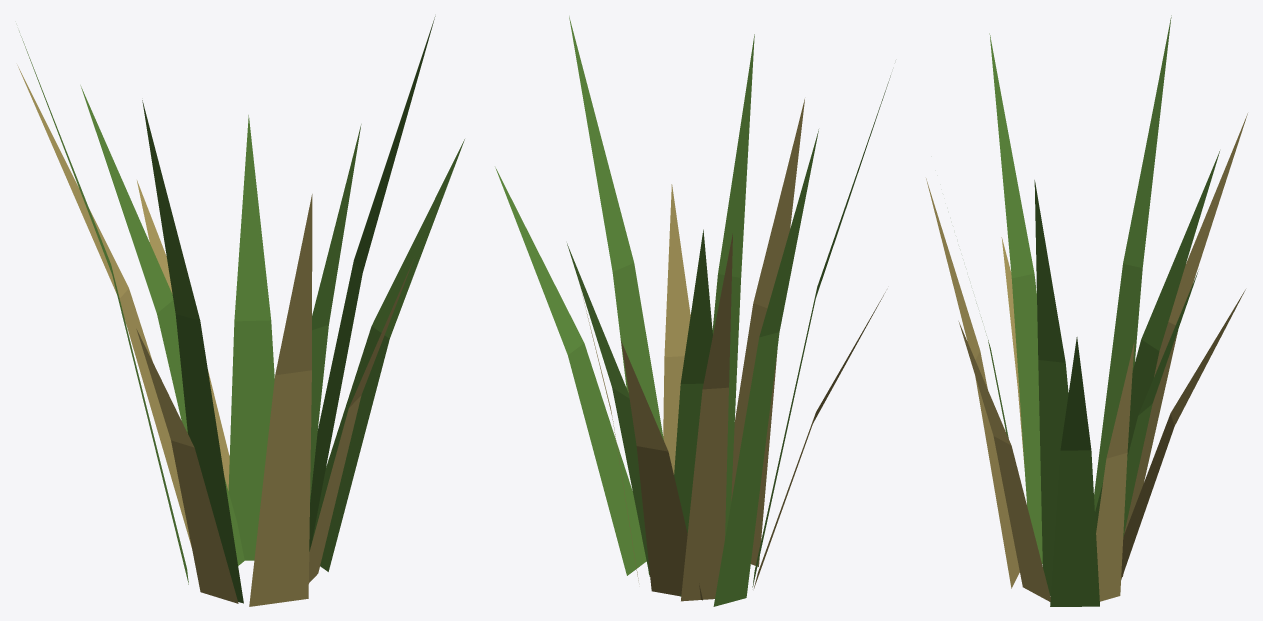
The picture shows the model from 3 angles, left to right: view 1: azimuth 30°, elevation 25°; view 2: azimuth 150°, elevation 25°; view 3: azimuth 270°, elevation 25°; orthographic projection. The views are drawn at different scales.
Visible parts, largest first — view 1: 草_04; view 2: 草_04; view 3: 草_04.
Boxes of the visible parts, box(x1,y1,x2,y2) form: 草_04: box(17, 16, 464, 606); 草_04: box(495, 16, 890, 606); 草_04: box(926, 15, 1247, 606).
Bounding box in the file's own units: 0.6343 × 0.8586 × 0.5141.
